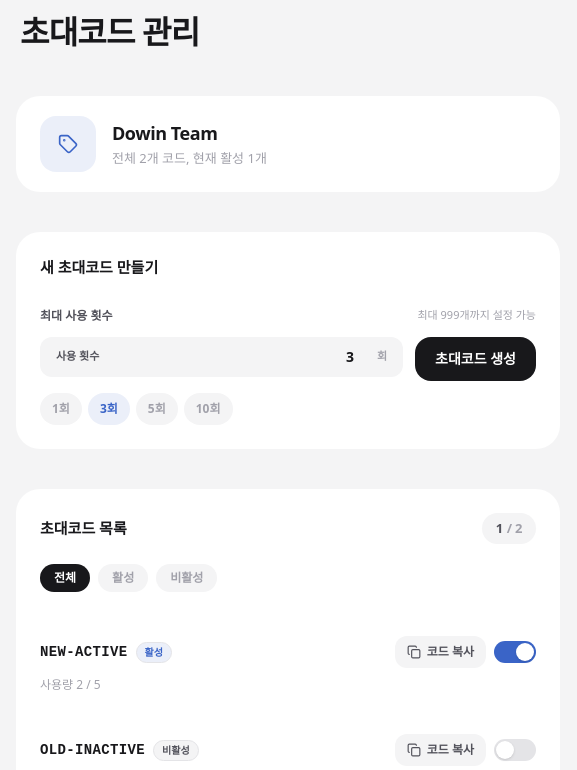
Test: ProfileInvitesPage › filters invites by active and inactive status
Click the button "활성" at {"x": 123, "y": 578}, box [98,564,148,592]
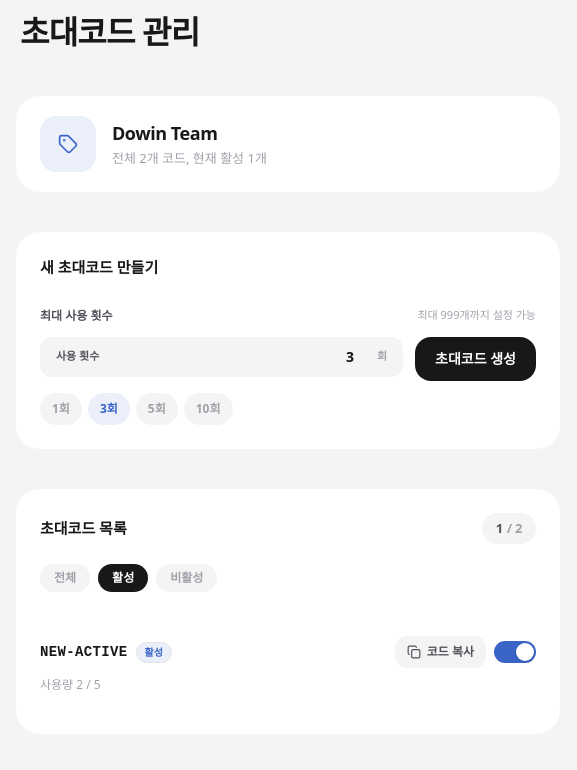
expect the text "NEW-ACTIVE" is shown: met, box [40,642,128,662]
expect the text "OLD-INACTIVE" is gone: met
Click the button "비활성" at {"x": 187, "y": 578}, box [156,564,217,592]
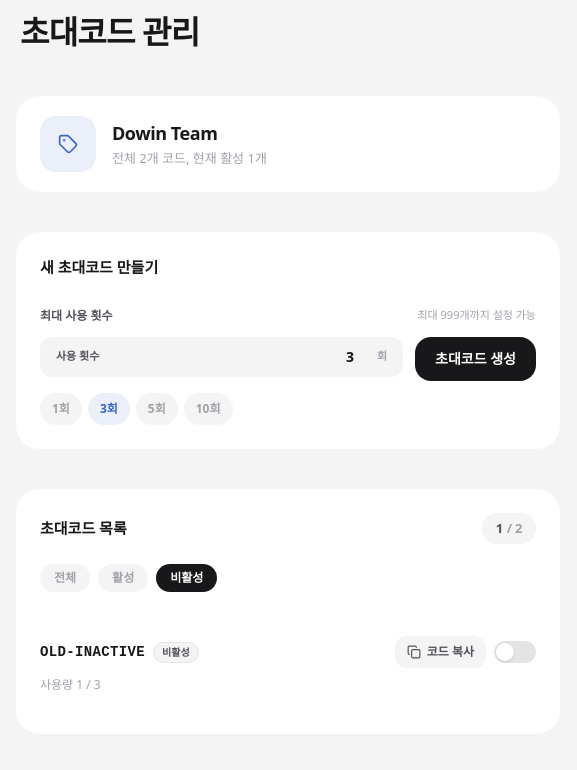
expect the text "NEW-ACTIVE" is gone: met
expect the text "OLD-INACTIVE" is shown: met, box [40,642,145,662]
